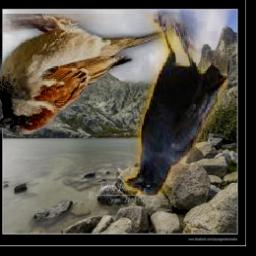Crow: (125, 13, 227, 197)
Sparrow: (0, 14, 174, 134)
